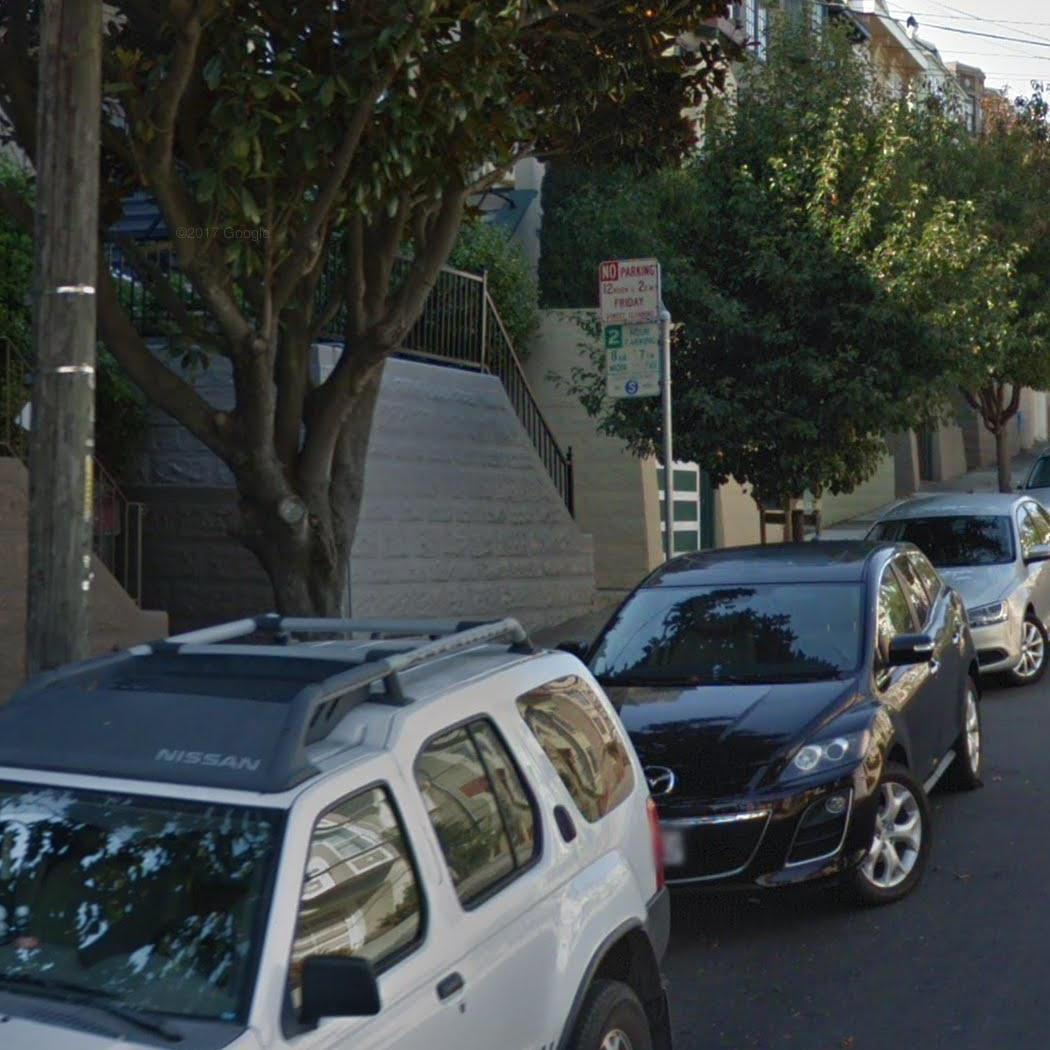2 Hour Parking: (597, 321, 668, 400)
No Parking: (593, 252, 666, 326)
